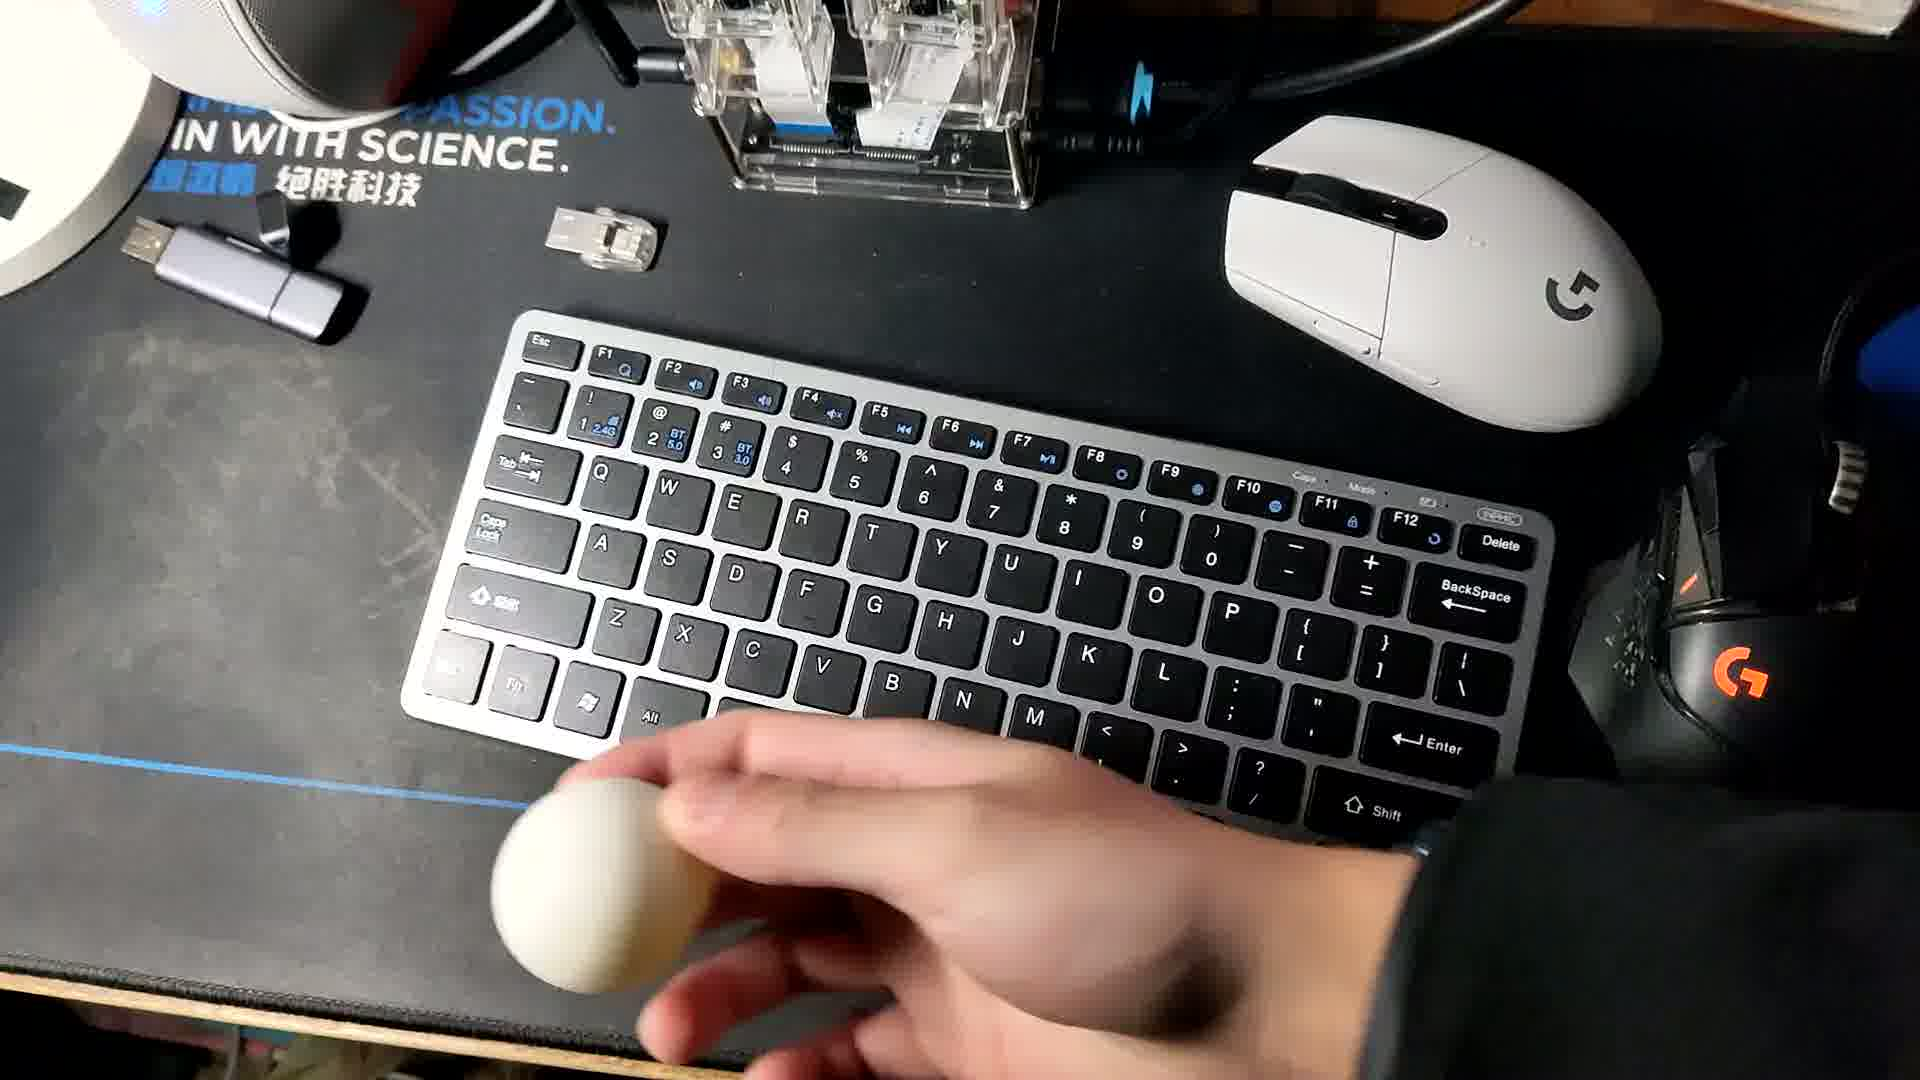Ball: (488, 775, 705, 985)
